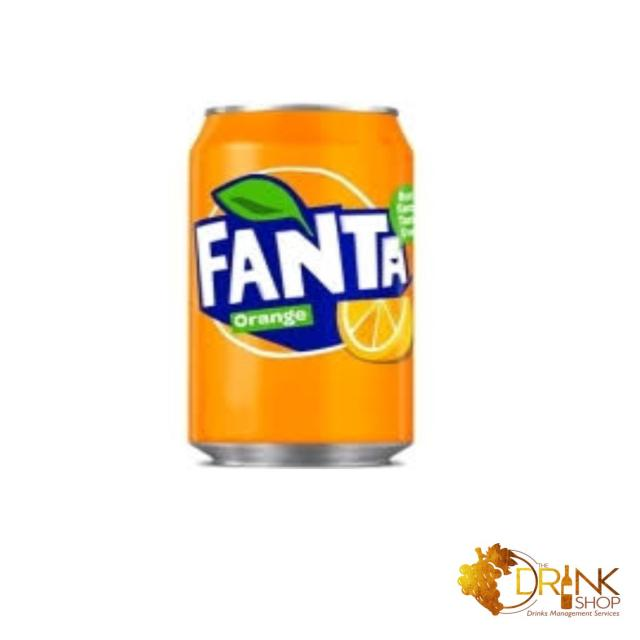fanta: (183, 103, 423, 471)
